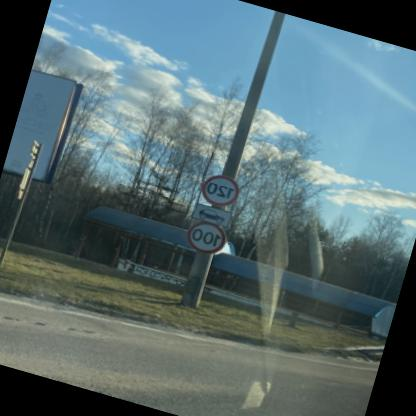speedlimit: (186, 218, 232, 258), (200, 170, 245, 210)
